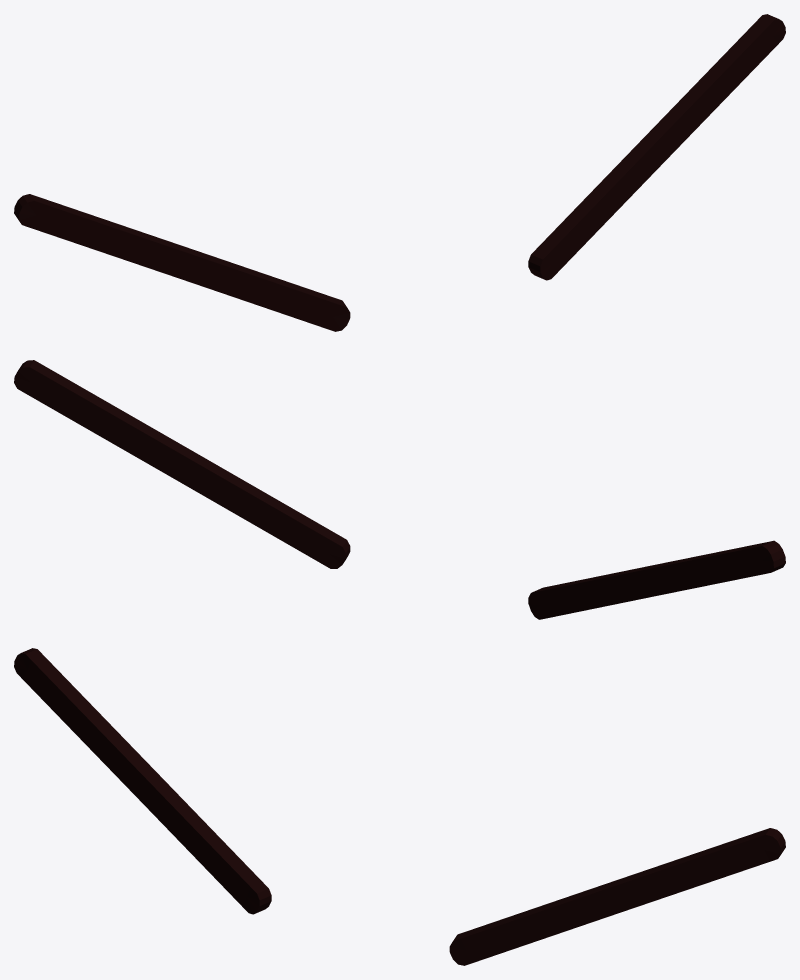
The model's file is eyebrows_npc.glb.
3 renders of one model, top to bottom at view 1: azimuth 30°, elevation 25°; view 2: azimuth 150°, elevation 25°; view 3: azimuth 330°, elevation 25°, orthographic.
Visible parts, largest first — view 1: eyebrows_npc; view 2: eyebrows_npc; view 3: eyebrows_npc.
Part boxes in pixels (left/top/right/bottom): eyebrows_npc: left=14, top=14, right=785, bottom=331; eyebrows_npc: left=14, top=360, right=785, bottom=619; eyebrows_npc: left=14, top=648, right=785, bottom=965.
Bounding box in the file's own units: 0.2296 × 0.0476 × 0.0266.
